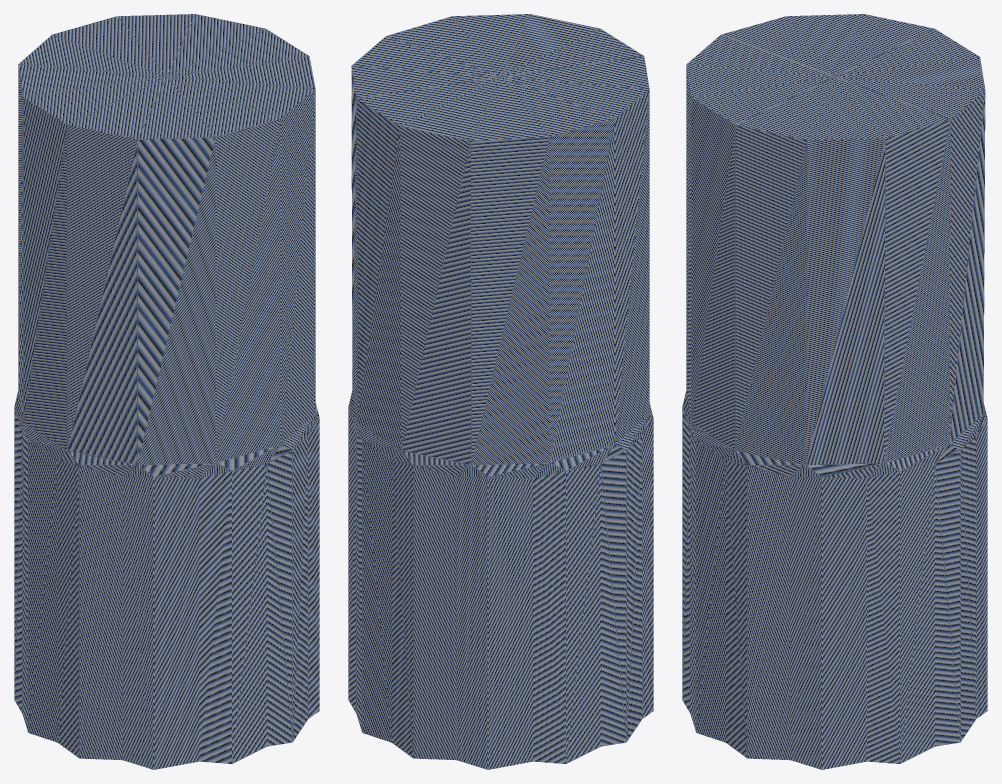
The model's file is Cilindro.gltf.
3 renders of one model, left to right at view 1: azimuth 30°, elevation 25°; view 2: azimuth 150°, elevation 25°; view 3: azimuth 270°, elevation 25°, orthographic.
Visible parts, largest first — view 1: node1; view 2: node1; view 3: node1.
Boxes of the visible parts, left/top/right/bottom form: node1: left=14, top=14, right=319, bottom=769; node1: left=348, top=14, right=653, bottom=769; node1: left=682, top=14, right=987, bottom=769.
Size of the model in its own units: 14.55 by 33.05 by 14.55.
